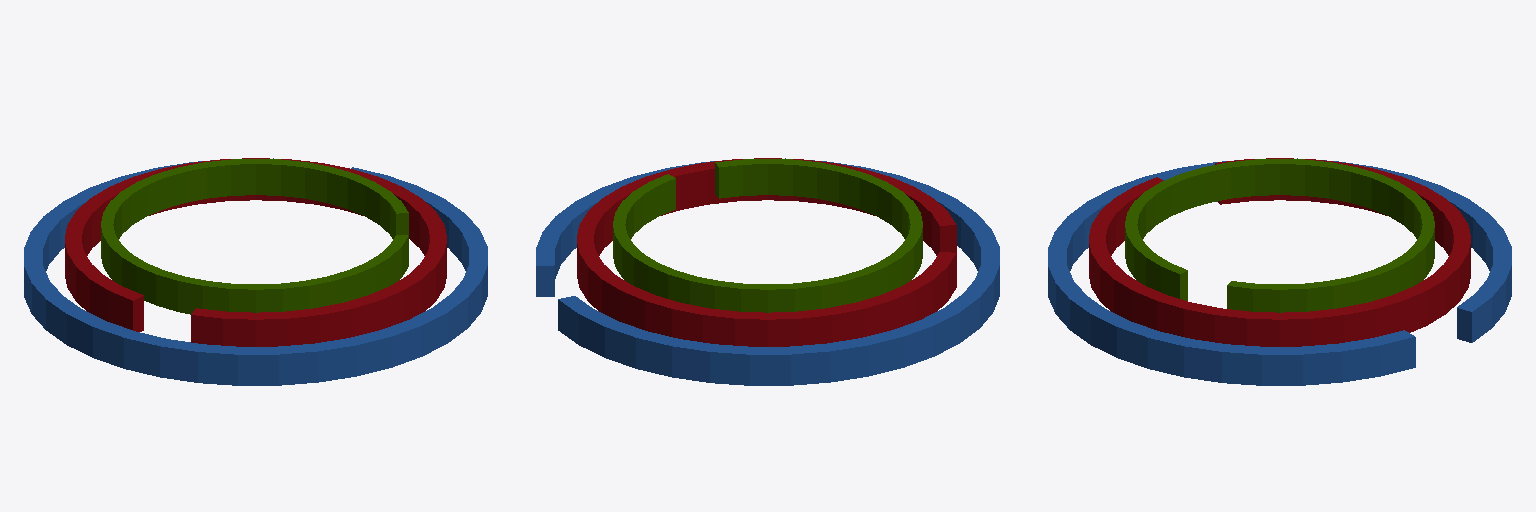
3 renders of one model, left to right at view 1: azimuth 30°, elevation 25°; view 2: azimuth 150°, elevation 25°; view 3: azimuth 270°, elevation 25°, orthographic.
Visible parts, largest first — view 1: 管道_1.001_Untitled.003, 管道_1_Untitled.001, 管道_Untitled.002; view 2: 管道_1.001_Untitled.003, 管道_Untitled.002, 管道_1_Untitled.001; view 3: 管道_1.001_Untitled.003, 管道_1_Untitled.001, 管道_Untitled.002.
Boxes of the visible parts, box(x1,y1,x2,y2) form: 管道_1.001_Untitled.003: box(24, 158, 487, 385); 管道_1_Untitled.001: box(101, 159, 408, 314); 管道_Untitled.002: box(65, 158, 446, 346); 管道_1.001_Untitled.003: box(536, 158, 999, 385); 管道_Untitled.002: box(577, 158, 956, 346); 管道_1_Untitled.001: box(613, 159, 922, 312); 管道_1.001_Untitled.003: box(1048, 158, 1511, 385); 管道_1_Untitled.001: box(1125, 159, 1434, 312); 管道_Untitled.002: box(1089, 158, 1470, 346).
Bounding box in the file's own units: 2.43 × 0.3667 × 2.43.